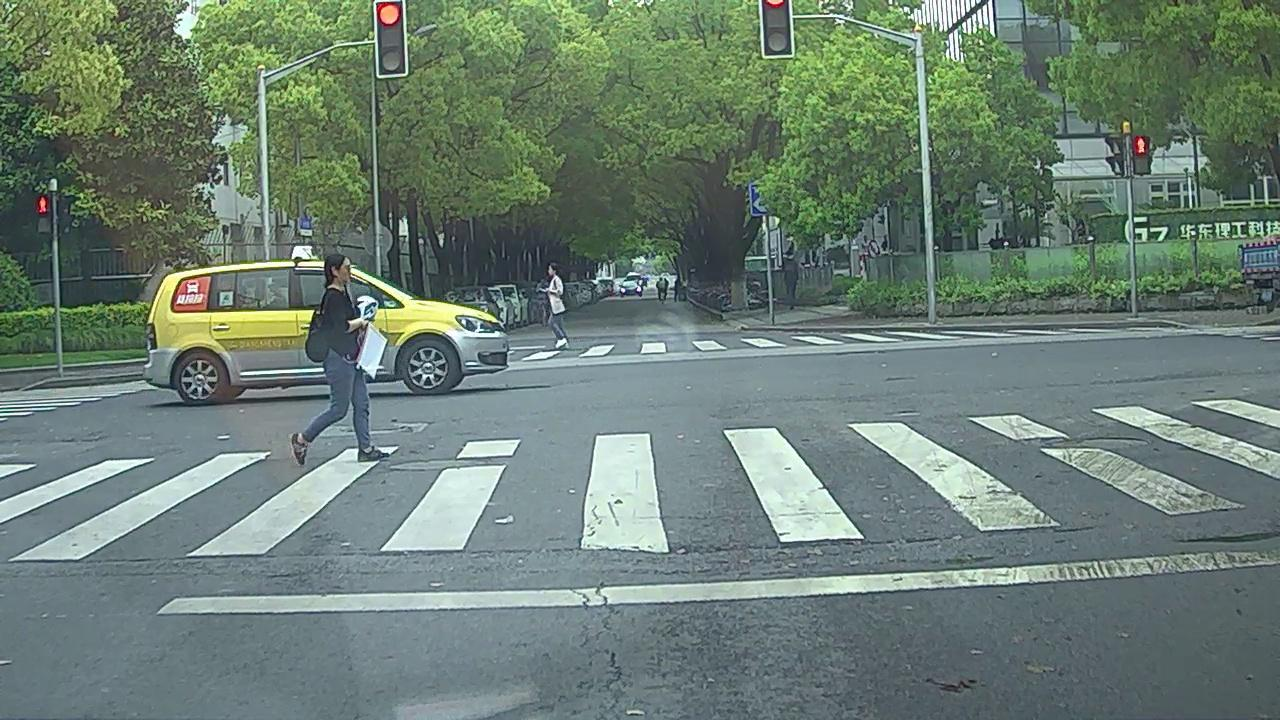traffic_light: (376, 3, 404, 73), (761, 1, 793, 54)
